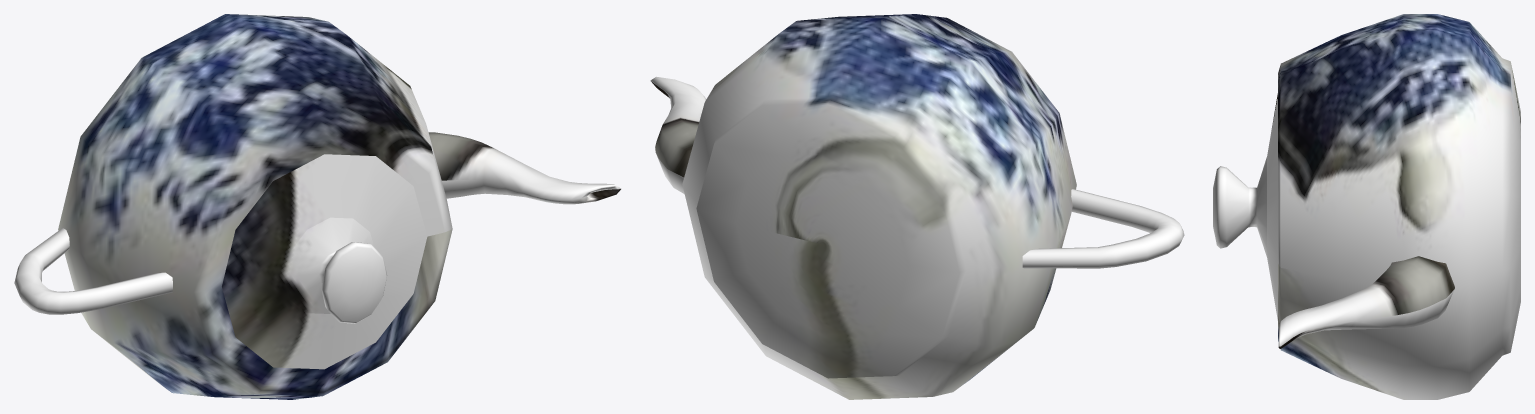
3 views of the same model, side by side, from view 1: azimuth 30°, elevation 25°; view 2: azimuth 150°, elevation 25°; view 3: azimuth 270°, elevation 25° (orthographic). The views are drawn at different scales.
Bounding box in the file's own units: 1 × 0.6207 × 0.4929.
